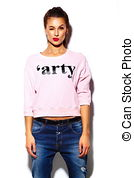face: (44, 8, 73, 51)
